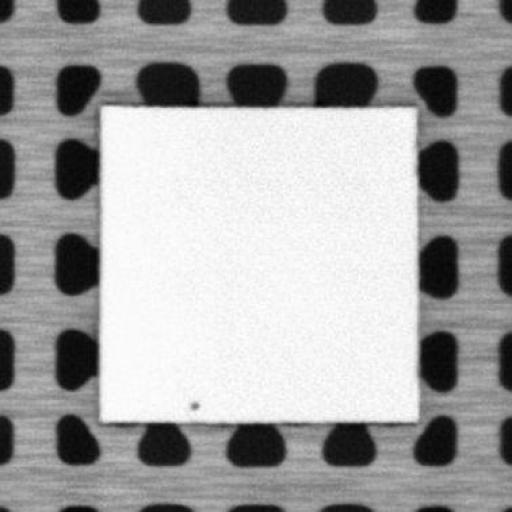DIE_INK: (186, 398, 200, 410)
